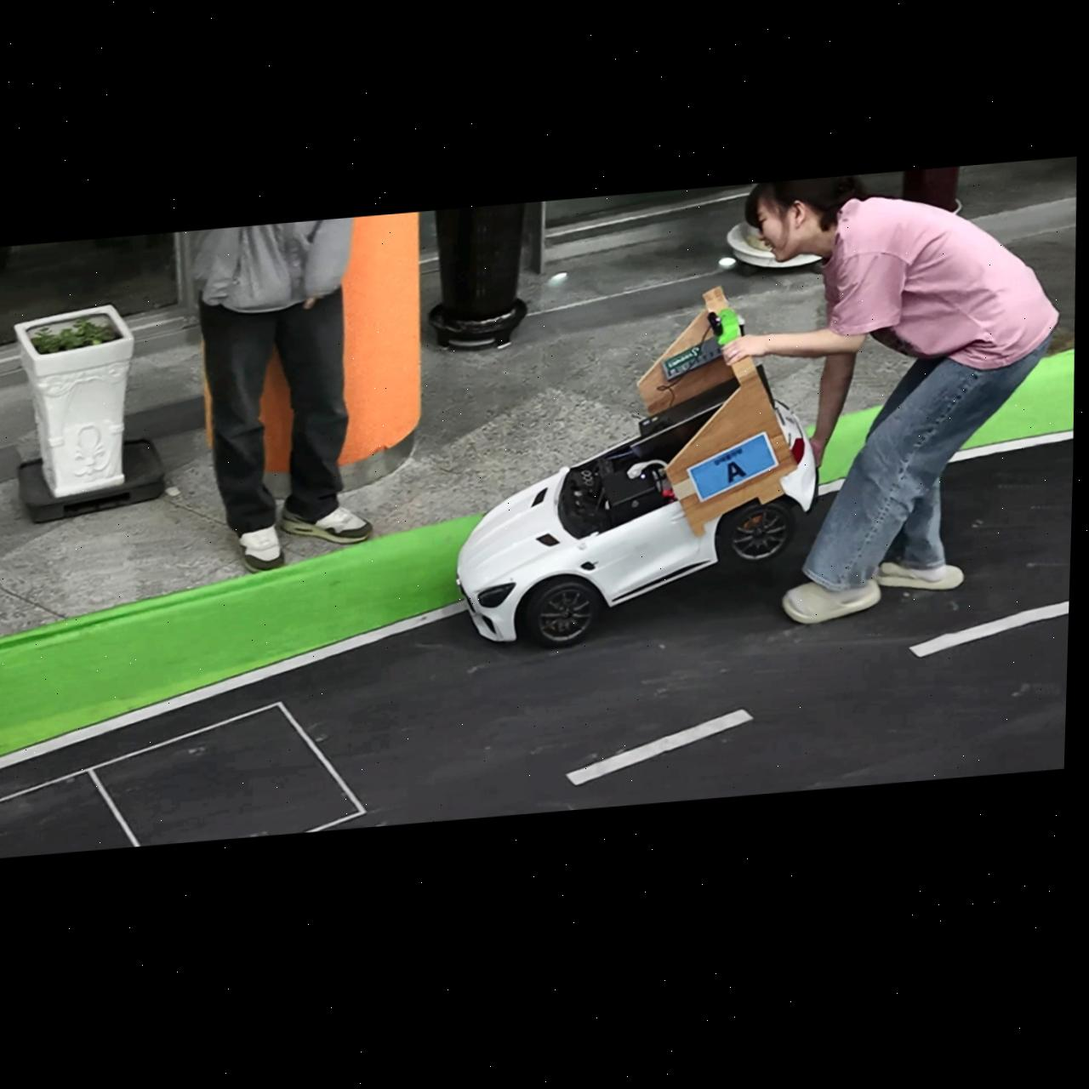broken_line: (566, 709, 753, 785), (910, 601, 1069, 657)
